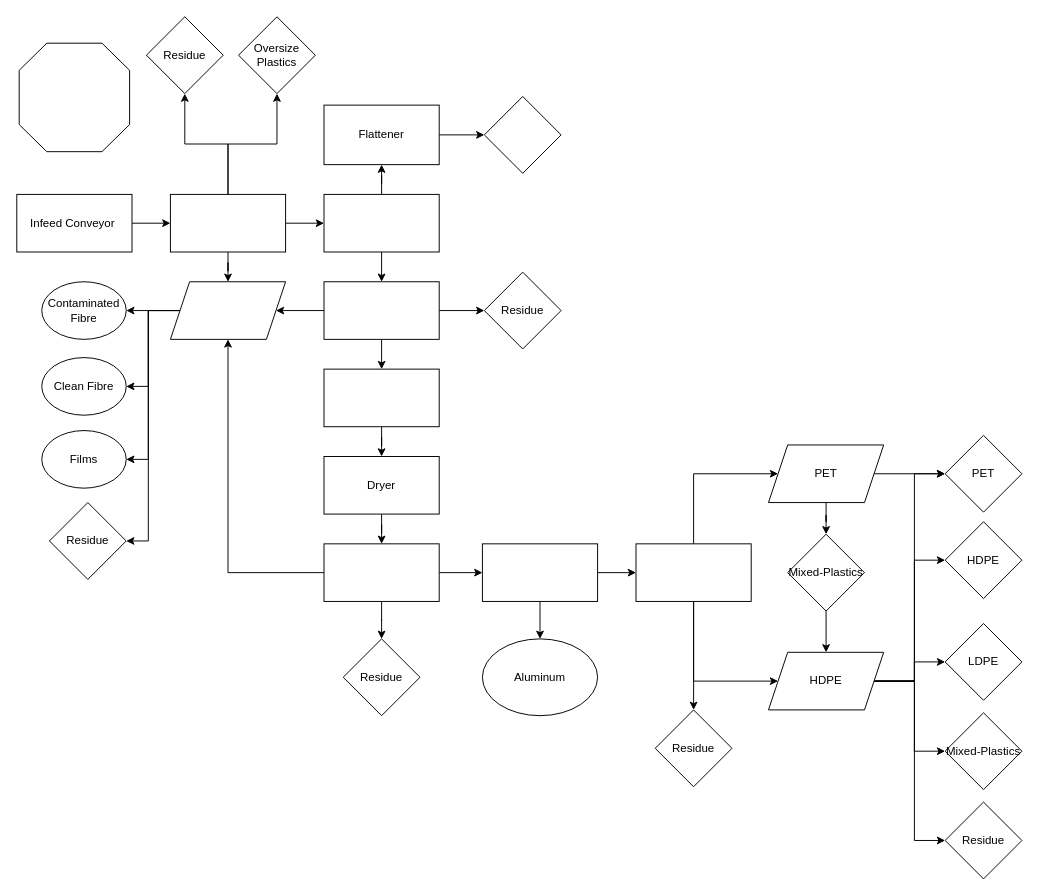
Some shapes in this 1039 by 896 pixel diagram are drawn without their labels. Each missing label, with the centre of its shape:
Dry Extraction: point 381,572
Eddy Current Seperator: point 539,572
Ferrous: point 522,134
Film/Fibre: point 227,310
Magnet: point 381,222
Optical Sortor: point 693,572
Perforator: point 381,397
Pre-sort: point 227,222
Screen: point 381,310
Tip Floor: point 74,97
